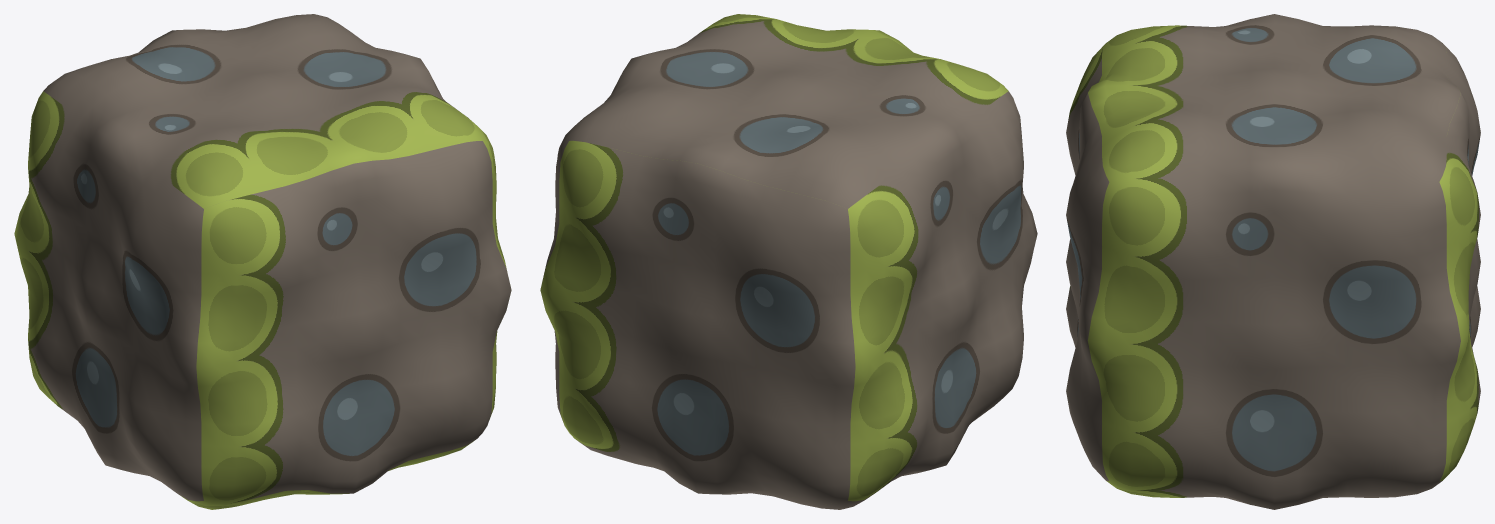
3 views of the same model, side by side, from view 1: azimuth 30°, elevation 25°; view 2: azimuth 150°, elevation 25°; view 3: azimuth 270°, elevation 25° (orthographic). The views are drawn at different scales.
Visible parts, largest first — view 1: Ledge; view 2: Ledge; view 3: Ledge.
Part boxes in pixels (<box>): Ledge: <box>14,14,511,509</box>; Ledge: <box>540,14,1037,509</box>; Ledge: <box>1066,14,1480,509</box>.
Size of what is drawn, in the model's own units: 68.56 by 67.18 by 68.31.
Materials: 1 (1 with a texture image).
